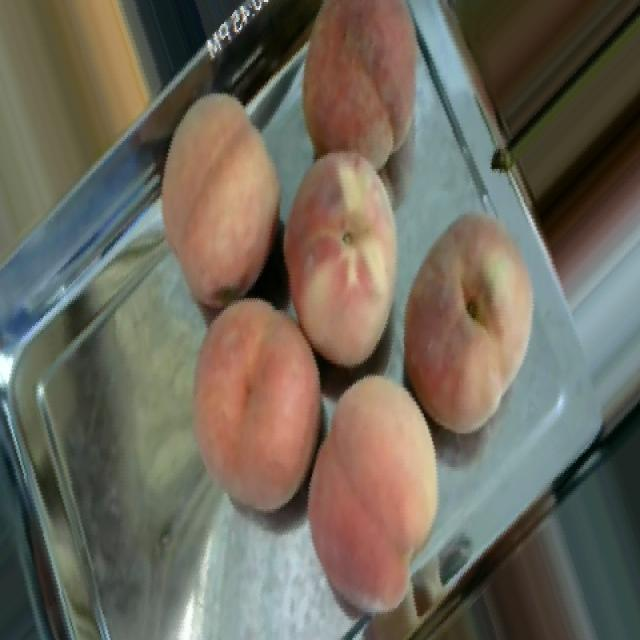Fruit: (276, 356, 476, 638), (0, 0, 190, 256), (161, 282, 351, 537), (405, 189, 567, 459), (276, 125, 440, 384), (124, 64, 281, 324), (264, 0, 463, 195)
